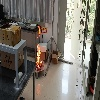fire: (36, 42, 42, 70), (37, 25, 41, 39), (37, 83, 41, 95)
